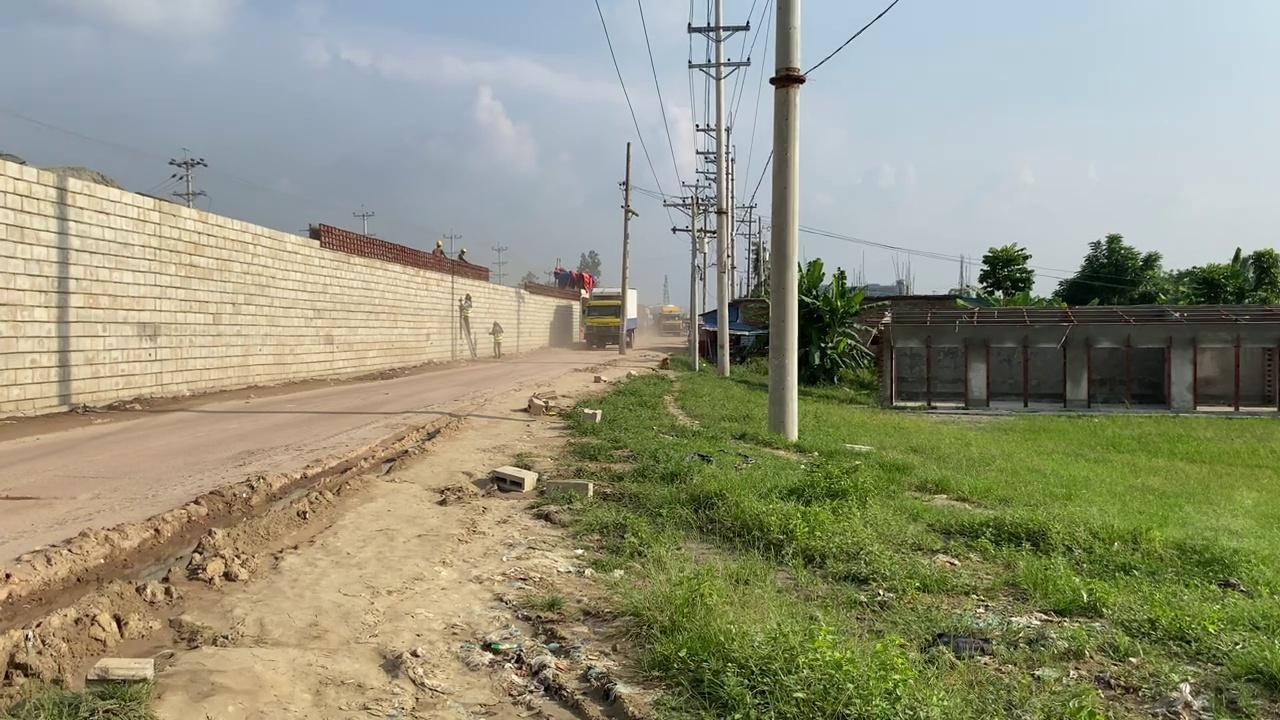Car: (695, 297, 770, 365)
Fence: (867, 303, 1278, 414)
Obstacle: (85, 655, 155, 683), (489, 464, 538, 493), (580, 407, 602, 424)
Pole: (766, 1, 803, 443), (618, 141, 632, 354)
Rickshaw: (2, 341, 680, 719)
Traffic-sign: (1054, 231, 1168, 305), (976, 240, 1035, 304)
Tree: (580, 286, 638, 349), (659, 304, 682, 334)
Upstairs: (0, 153, 582, 419)
